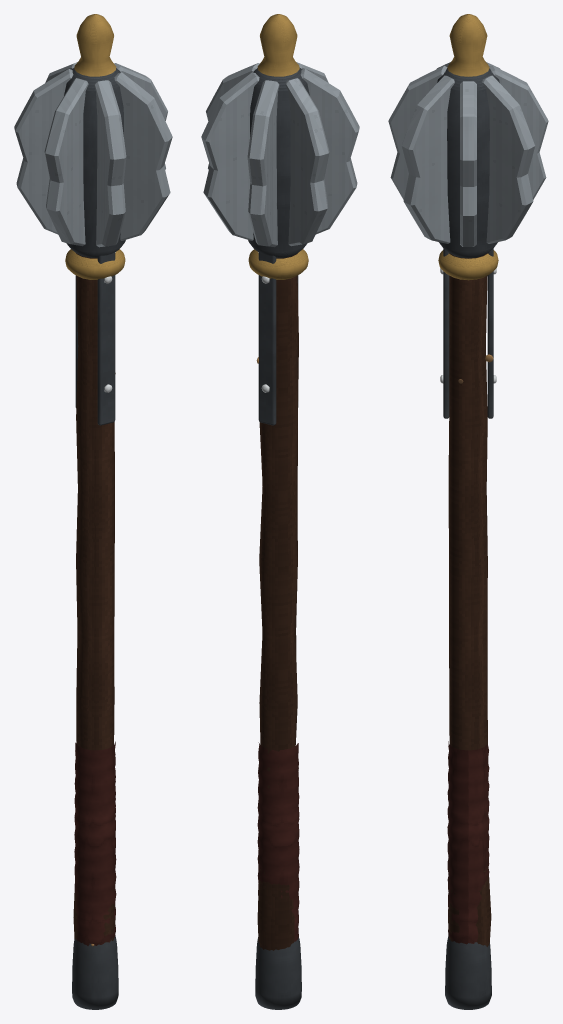
File: flanged-mace.lod1.glb
3 views of the same model, side by side, from view 1: azimuth 30°, elevation 25°; view 2: azimuth 150°, elevation 25°; view 3: azimuth 270°, elevation 25° (orthographic).
Parts seen in each view (by area): view 1: steel / forged blade steel, wood / oiled hardwood, darksteel / oil-blackened fittings, leather / oiled leather wrap, brass / polished brass furniture; view 2: steel / forged blade steel, wood / oiled hardwood, darksteel / oil-blackened fittings, leather / oiled leather wrap, brass / polished brass furniture; view 3: wood / oiled hardwood, steel / forged blade steel, darksteel / oil-blackened fittings, leather / oiled leather wrap, brass / polished brass furniture.
Part boxes in pixels (box(x1,y1,x2,y2)): steel / forged blade steel: box(14, 62, 172, 247); wood / oiled hardwood: box(73, 253, 115, 942); darksteel / oil-blackened fittings: box(64, 67, 125, 1009); leather / oiled leather wrap: box(74, 741, 116, 945); brass / polished brass furniture: box(65, 14, 125, 279); steel / forged blade steel: box(201, 62, 359, 247); wood / oiled hardwood: box(257, 253, 298, 950); darksteel / oil-blackened fittings: box(248, 67, 309, 1009); leather / oiled leather wrap: box(257, 742, 299, 941); brass / polished brass furniture: box(248, 14, 308, 279); wood / oiled hardwood: box(448, 253, 491, 946); steel / forged blade steel: box(388, 62, 548, 246); darksteel / oil-blackened fittings: box(437, 68, 499, 1009); leather / oiled leather wrap: box(447, 741, 489, 944); brass / polished brass furniture: box(438, 14, 498, 280).
Bounding box in the file's own units: 0.1325 × 0.923 × 0.1358.
Materials: 8 (6 with a texture image).
